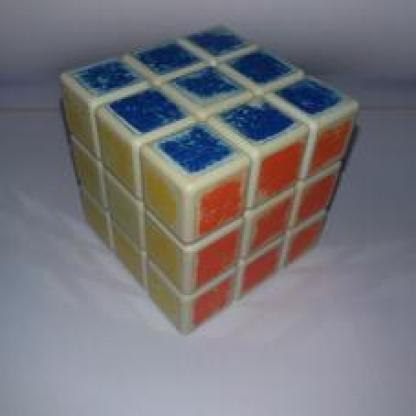cube: (64, 21, 348, 334)
